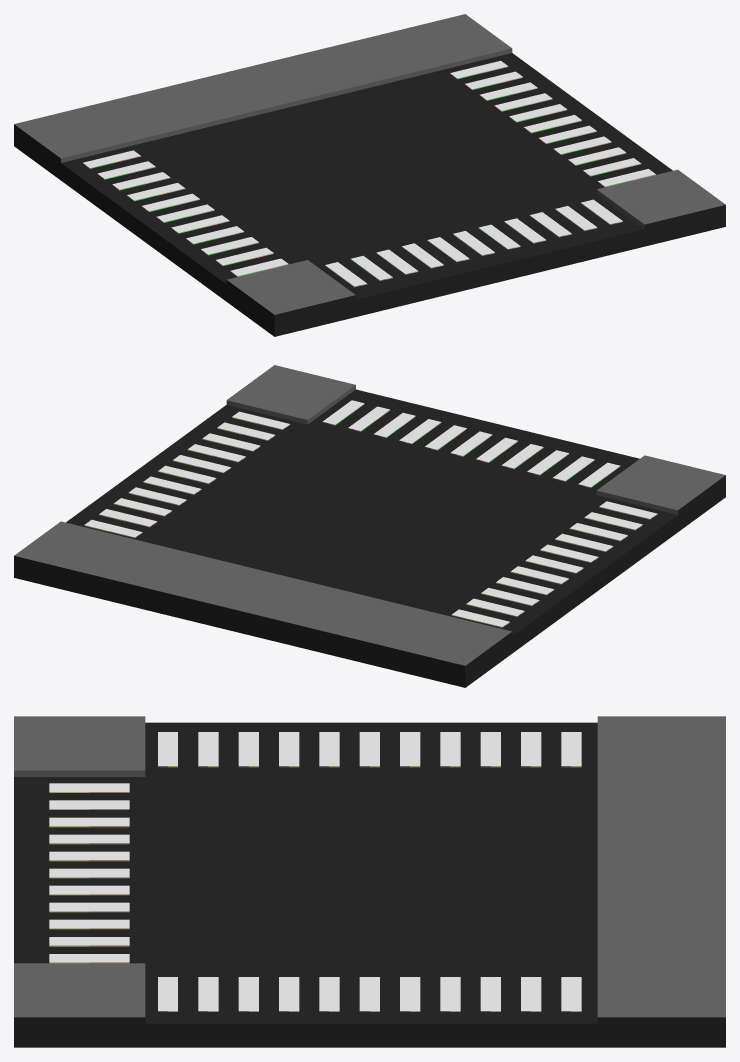
Rendered from road_3-way_intersection.glb.
3 views of the same model, one above another, from view 1: azimuth 30°, elevation 25°; view 2: azimuth 150°, elevation 25°; view 3: azimuth 270°, elevation 25° (orthographic). The views are drawn at different scales.
Parts seen in each view (by area): view 1: Road_3-way_Intersection; view 2: Road_3-way_Intersection; view 3: Road_3-way_Intersection.
Part boxes in pixels (bbox=[...]): Road_3-way_Intersection: bbox=[14, 14, 725, 336]; Road_3-way_Intersection: bbox=[14, 365, 725, 687]; Road_3-way_Intersection: bbox=[14, 716, 725, 1047].
Bounding box in the file's own units: 2 × 0.0934 × 2.
1 material, 1 textured.
